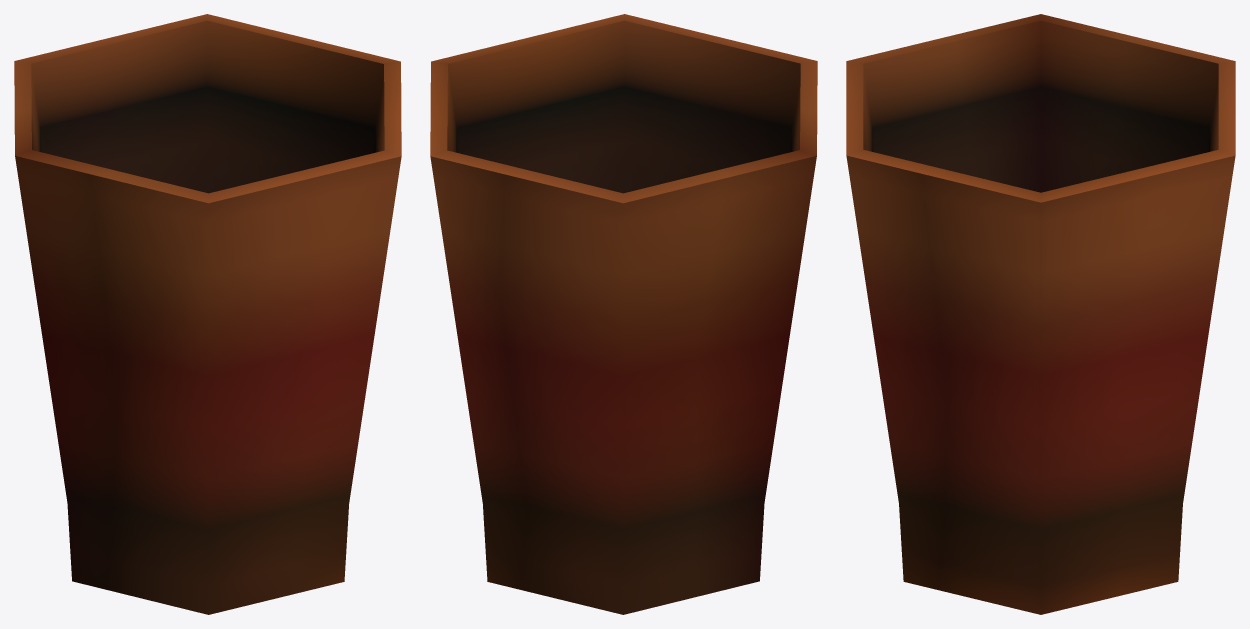
File: Tea_Glass.gltf
3 views of the same model, side by side, from view 1: azimuth 30°, elevation 25°; view 2: azimuth 150°, elevation 25°; view 3: azimuth 270°, elevation 25° (orthographic).
Parts seen in each view (by area): view 1: Tea_Glass; view 2: Tea_Glass; view 3: Tea_Glass.
Boxes of the visible parts, bbox=[...] form: Tea_Glass: bbox=[14, 14, 401, 614]; Tea_Glass: bbox=[430, 14, 817, 614]; Tea_Glass: bbox=[846, 14, 1235, 614].
Size of the model in its own units: 5.76 by 6.29 by 5.02.
Materials: 1 (1 with a texture image).
